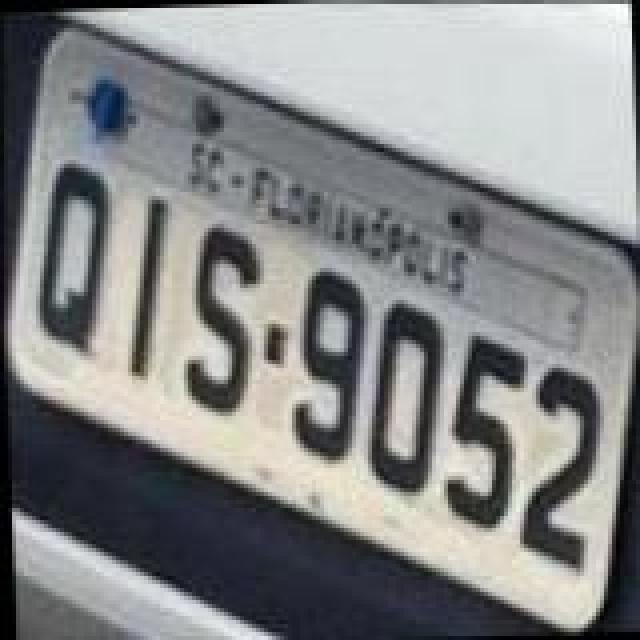1: (114, 194, 174, 378)
2: (510, 360, 610, 576)
5: (436, 324, 536, 528)
9: (282, 264, 374, 464)
O: (356, 296, 452, 500)
Q: (26, 152, 118, 360)
S: (176, 216, 268, 416)
